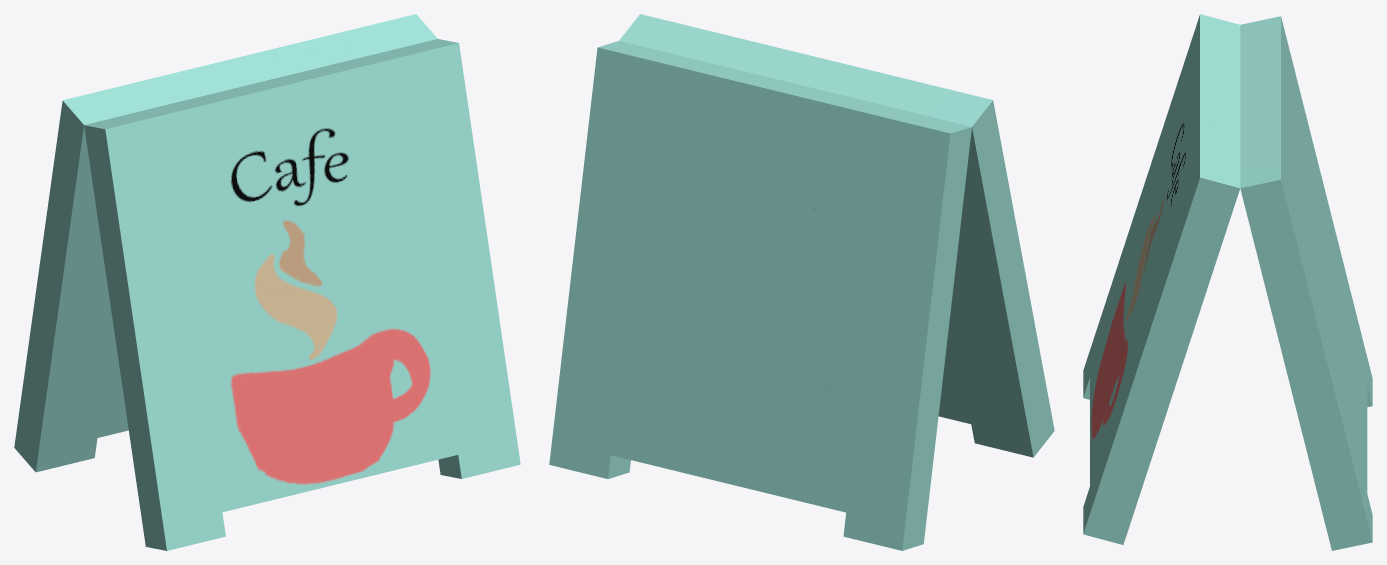
Rendered from ENV_sign_pizza.fbx.
3 views of the same model, side by side, from view 1: azimuth 30°, elevation 25°; view 2: azimuth 150°, elevation 25°; view 3: azimuth 270°, elevation 25° (orthographic). The views are drawn at different scales.
Visible parts, largest first — view 1: pCube3; view 2: pCube3; view 3: pCube3.
Boxes of the visible parts, box(x1,y1,x2,y2) form: pCube3: box(14, 14, 520, 550); pCube3: box(549, 14, 1054, 550); pCube3: box(1083, 14, 1372, 550).
Bounding box in the file's own units: 0.8939 × 0.9516 × 0.6686.
